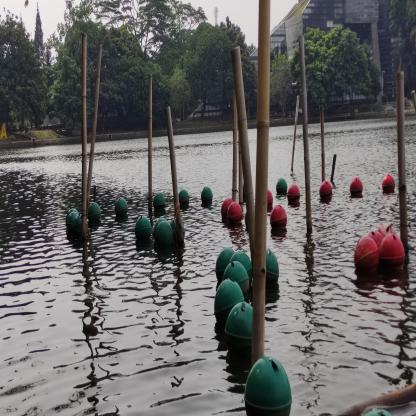green_buoy: (244, 356, 293, 416), (214, 277, 245, 329), (224, 301, 254, 354), (221, 260, 250, 304), (230, 251, 253, 290), (214, 246, 235, 283), (265, 249, 279, 294), (134, 216, 152, 246), (156, 222, 173, 251), (169, 216, 186, 242), (73, 215, 88, 239), (153, 218, 168, 240), (87, 202, 102, 224), (114, 198, 129, 218), (153, 192, 166, 214), (200, 186, 214, 206), (275, 176, 288, 197), (178, 190, 191, 210), (67, 212, 78, 232)
red_buoy: (354, 236, 380, 274), (380, 233, 406, 269), (269, 205, 287, 230), (377, 222, 399, 242), (366, 229, 384, 250), (347, 176, 364, 198), (227, 201, 243, 224), (381, 174, 397, 196), (220, 198, 233, 223), (319, 180, 333, 202), (287, 184, 301, 204), (267, 189, 273, 211)
